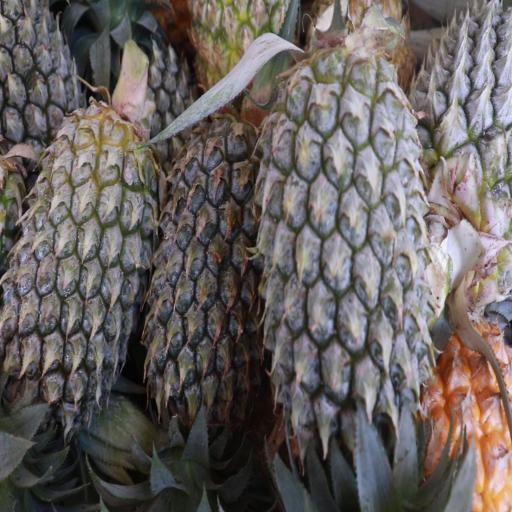------------------------------: (194, 0, 288, 102)
